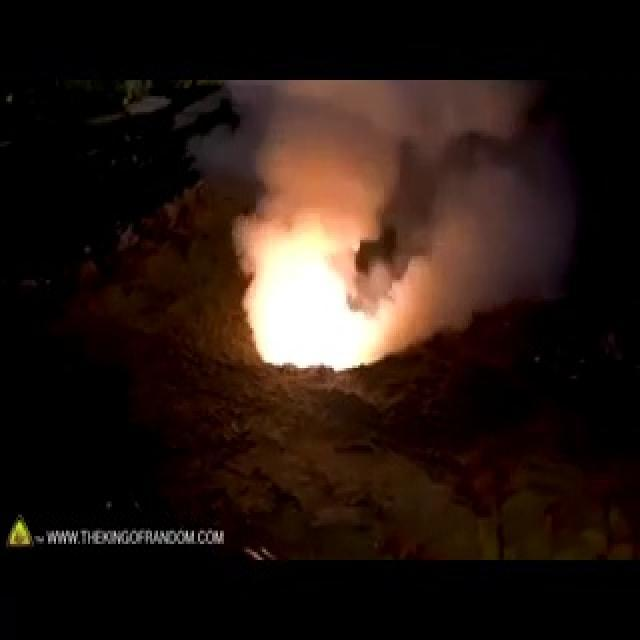Fire: (248, 214, 386, 368)
Smoke: (203, 79, 552, 205), (400, 144, 576, 341)
